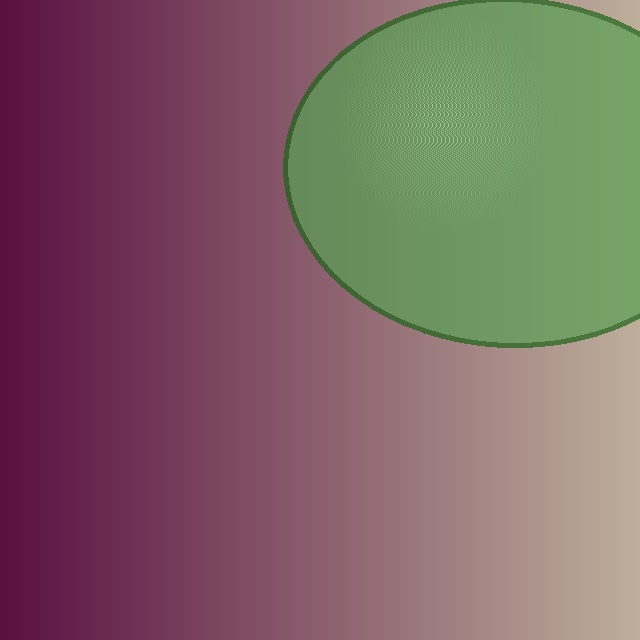lens: (285, 0, 640, 345)
